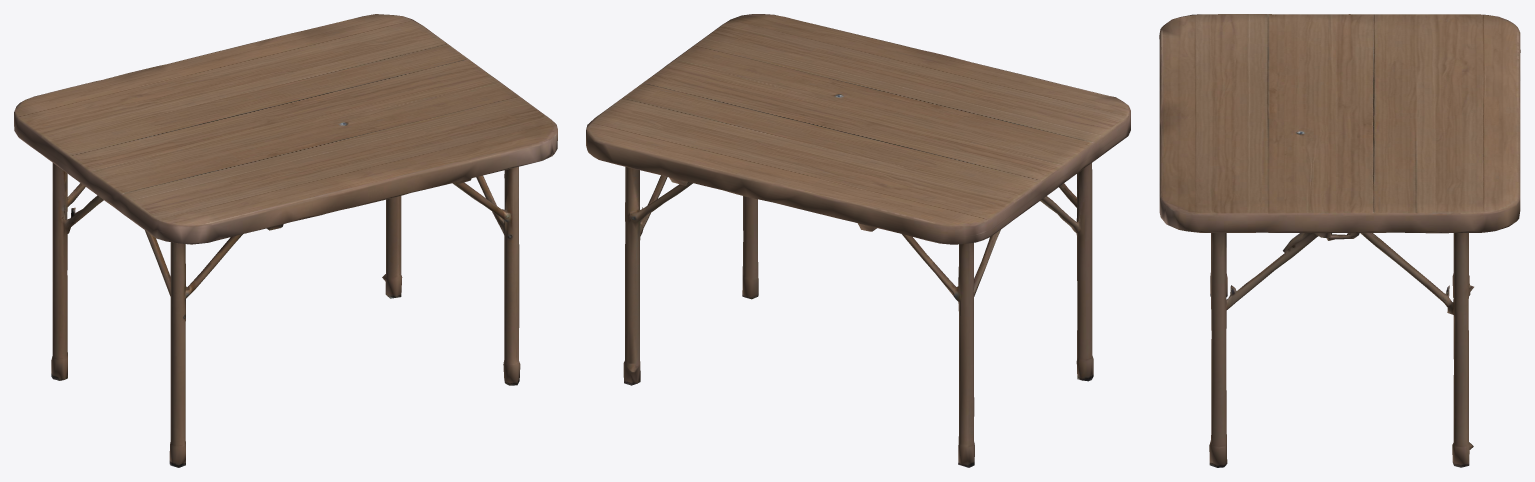
3 renders of one model, left to right at view 1: azimuth 30°, elevation 25°; view 2: azimuth 150°, elevation 25°; view 3: azimuth 270°, elevation 25°, orthographic. The views are drawn at different scales.
Parts seen in each view (by area): view 1: Mesh1.0; view 2: Mesh1.0; view 3: Mesh1.0.
Boxes of the visible parts, x1=… form: Mesh1.0: x1=14, y1=14, x2=557, y2=467; Mesh1.0: x1=586, y1=14, x2=1130, y2=467; Mesh1.0: x1=1159, y1=14, x2=1520, y2=467.
Bounding box in the file's own units: 201 × 125 × 152.
Materials: 1 (1 with a texture image).
